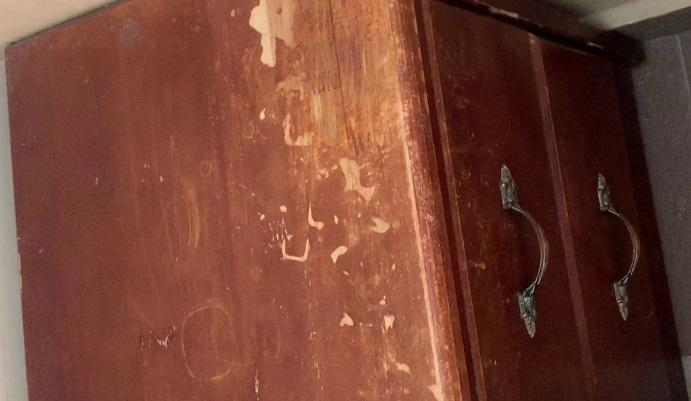cabinet_door: (448, 5, 552, 399), (569, 14, 645, 401)
handle: (492, 159, 556, 344), (589, 170, 644, 324)
